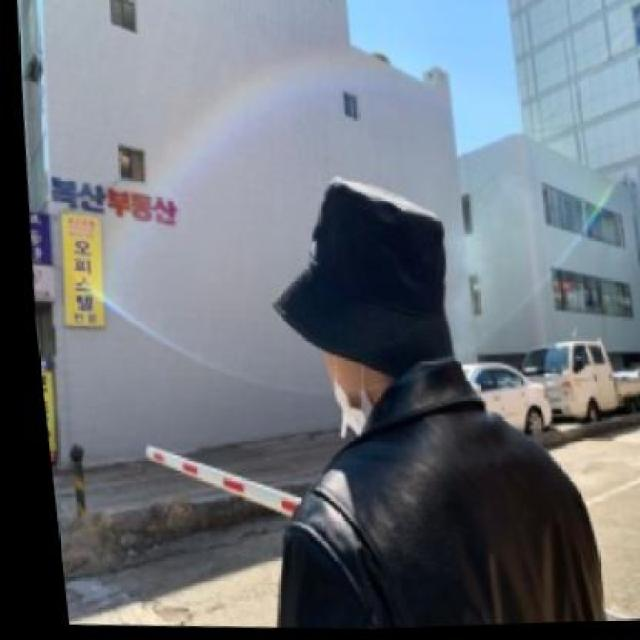hat: (245, 166, 463, 392)
